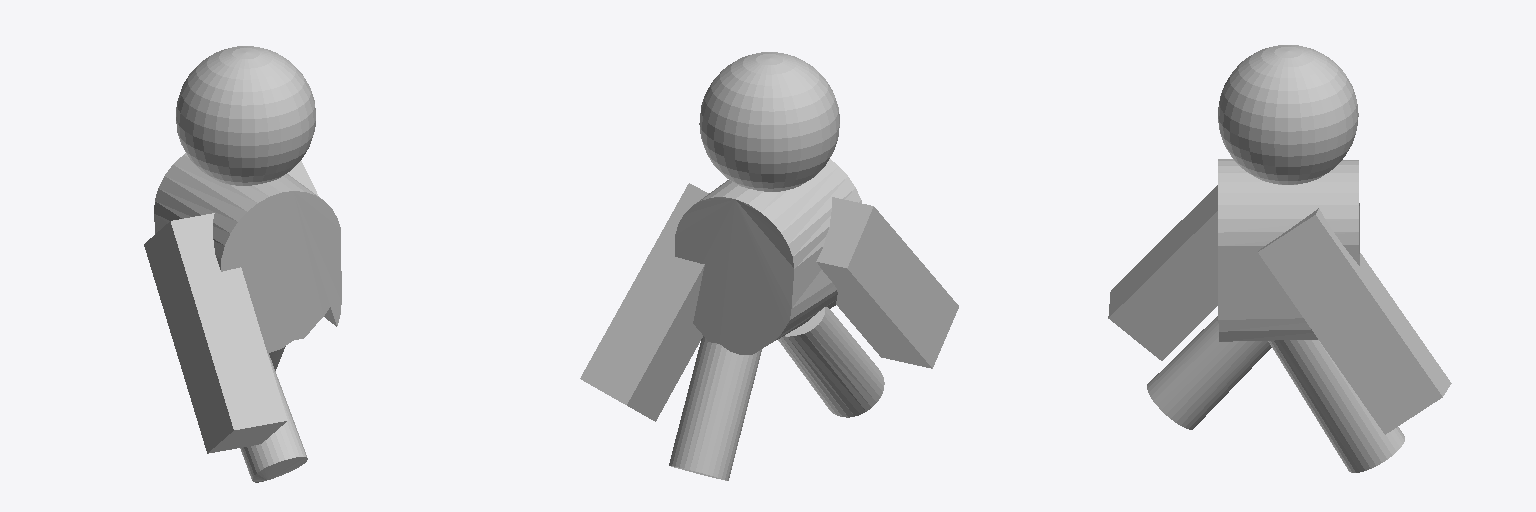
File: Figurine129.obj
The picture shows the model from 3 angles: view 1: azimuth 30°, elevation 25°; view 2: azimuth 150°, elevation 25°; view 3: azimuth 270°, elevation 25°; orthographic projection.
Visible parts, largest first — view 1: Cylinder; view 2: Cylinder; view 3: Cylinder.
Boxes of the visible parts, x1,y1,x2,y2 form: Cylinder: [144, 46, 341, 482]; Cylinder: [580, 52, 958, 480]; Cylinder: [1108, 45, 1451, 472].
Bounding box in the file's own units: 3.49 × 6.32 × 4.87.